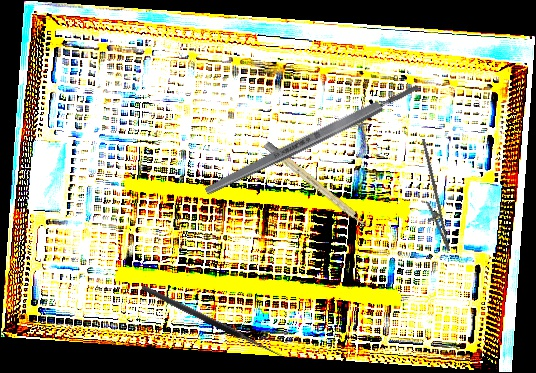Hook Surgical: (140, 277, 287, 360)
Needle Holder: (399, 138, 465, 255)
Scalpel Handle: (202, 80, 422, 198), (263, 140, 370, 230)
